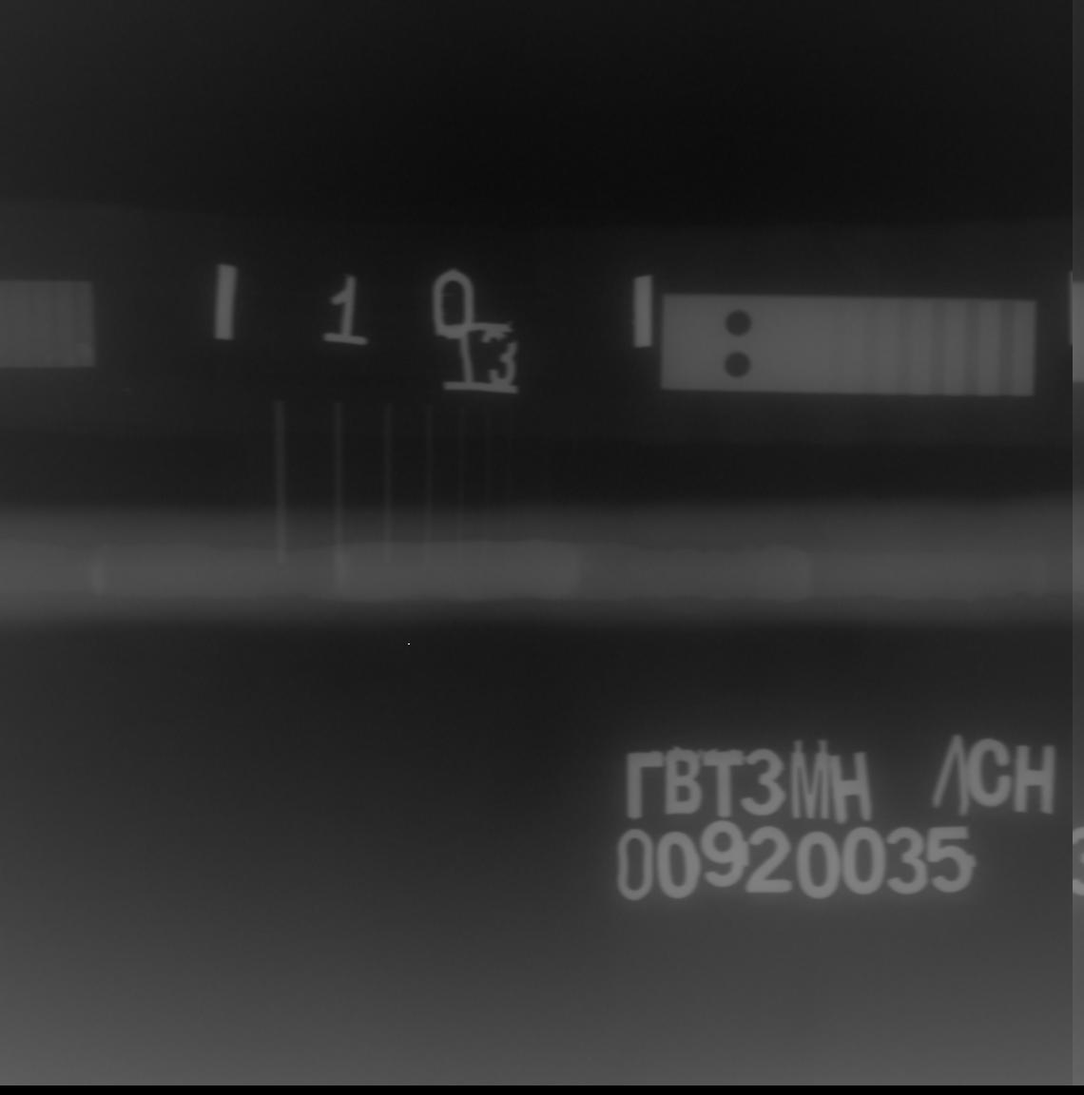Reference Standard 1: (284, 295, 735, 395)
